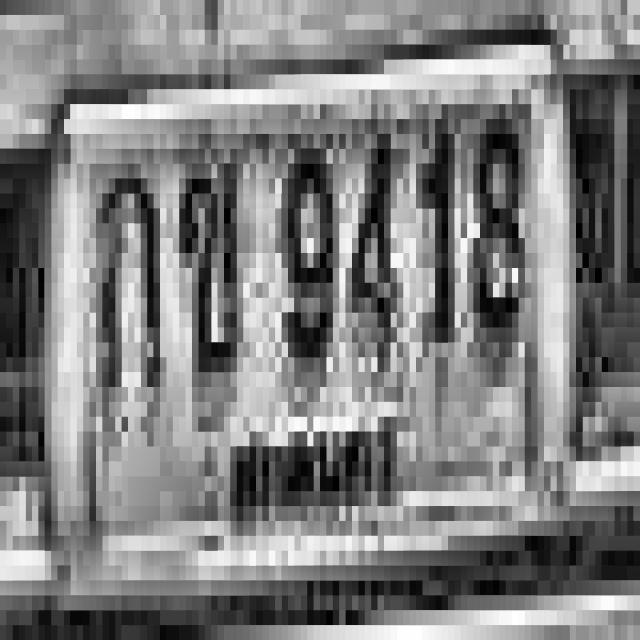license-plate: (32, 21, 590, 628)
